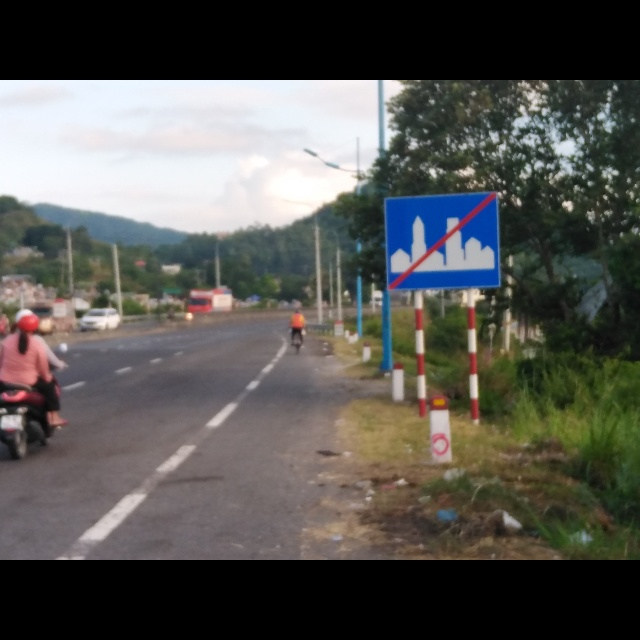Hết khu đông dân cư: (383, 192, 505, 293)
